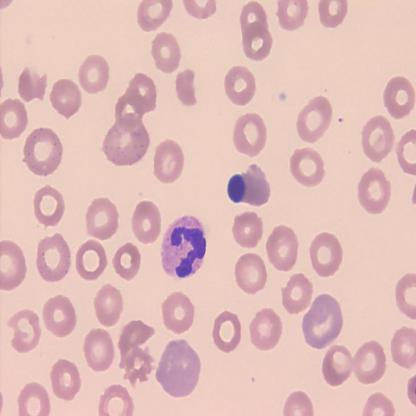NRC: (224, 162, 272, 207)
